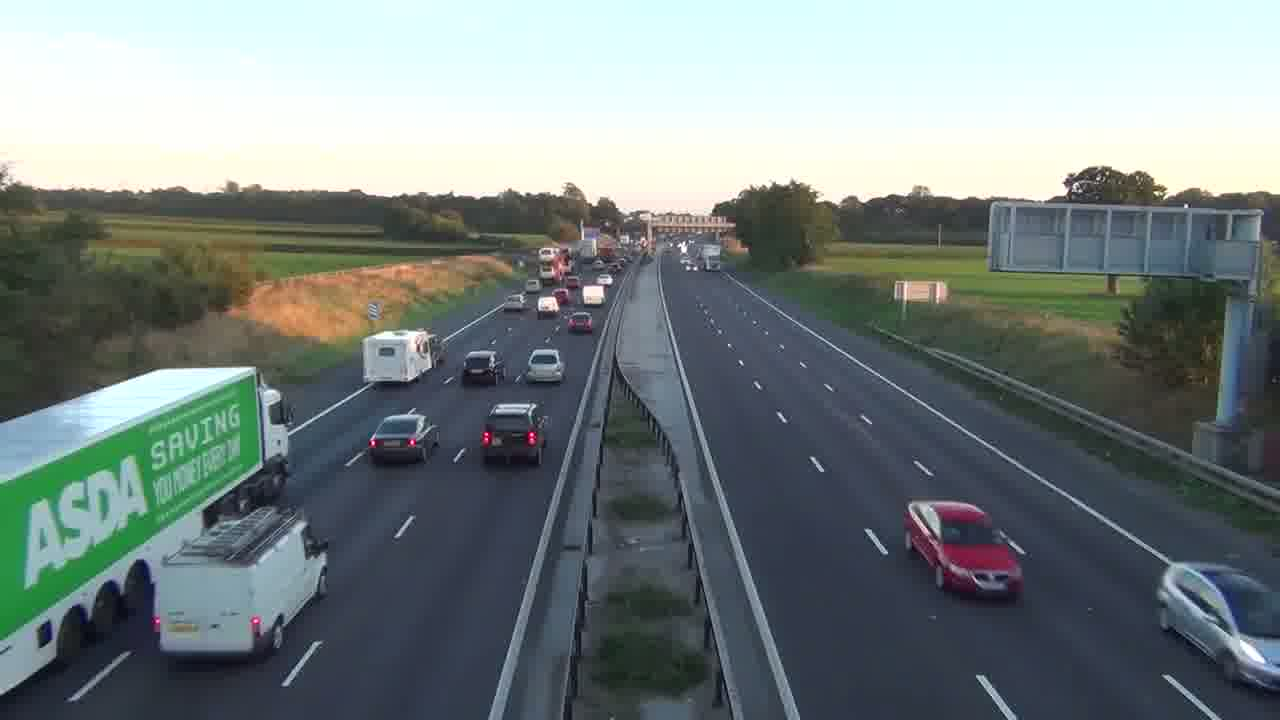car: (1154, 560, 1280, 693), (902, 499, 1028, 602), (480, 401, 548, 466), (368, 410, 440, 465), (368, 411, 441, 465), (523, 347, 566, 385), (461, 350, 501, 388), (565, 310, 594, 335)
truck: (1, 364, 294, 696), (154, 503, 331, 663), (362, 329, 435, 384)
